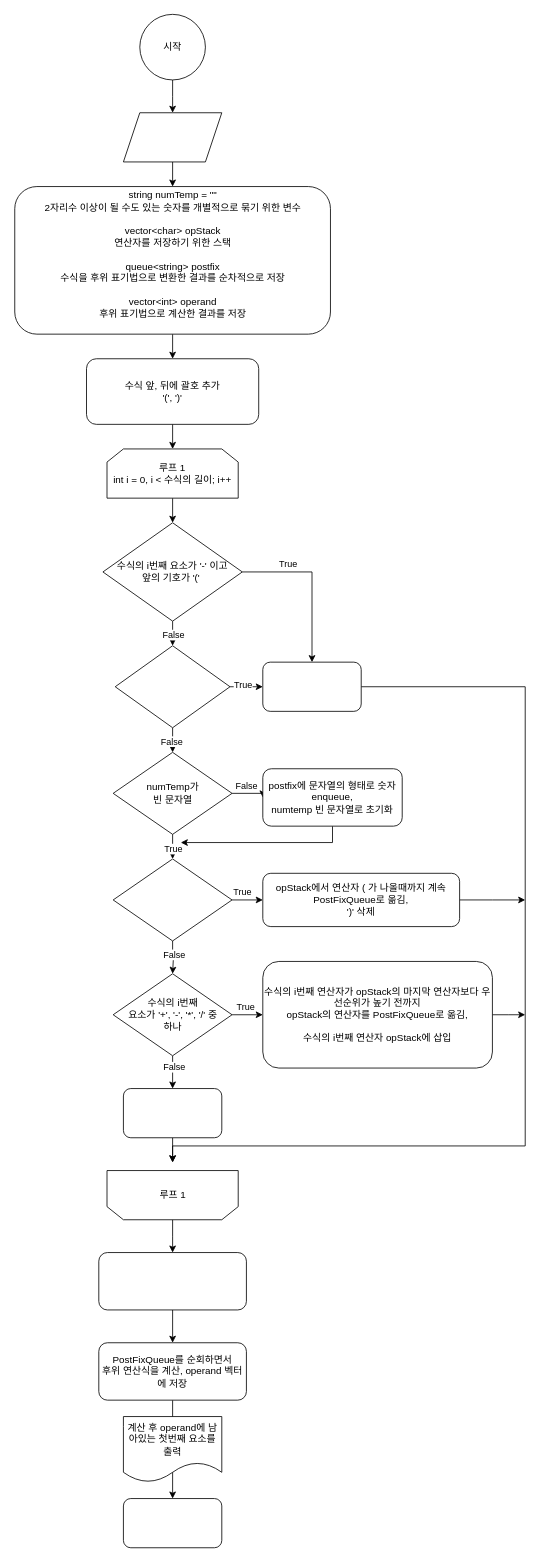
Some shapes in this 546 by 1562 pixel diagram are drawn without their labels. Here are the shapes that lost their labels. From the top down, the box of each, then its label:
(123, 112, 222, 162): 수식 string형태로 입력
(114, 645, 230, 728): 수식의 i번째 요소가 숫자이거나 소수점
(262, 661, 361, 711): numTemp에 기록
(112, 858, 232, 941): 수식의 i번째 요소가 ')'
(123, 1088, 222, 1138): 수식의 i번째 연산자 opStack에 삽입
(98, 1252, 246, 1310): numTemp에 숫자가 남아 있을 경우 postfix에 저장
(123, 1498, 222, 1548): 종료
